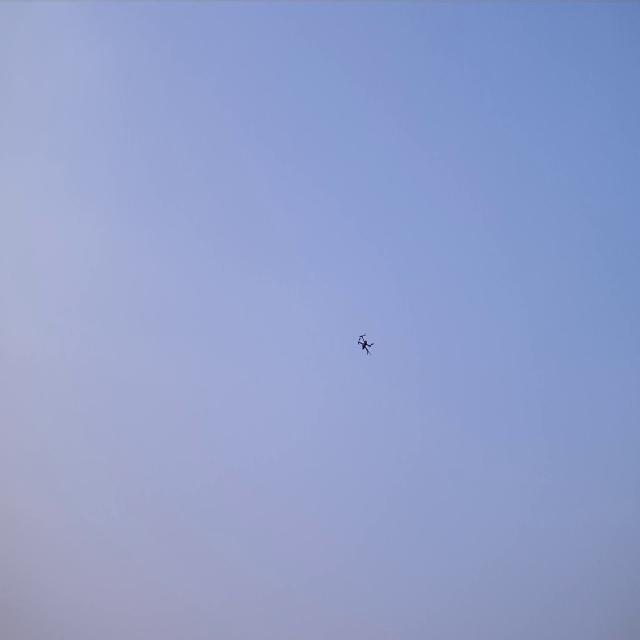UAV: (357, 330, 374, 357)
